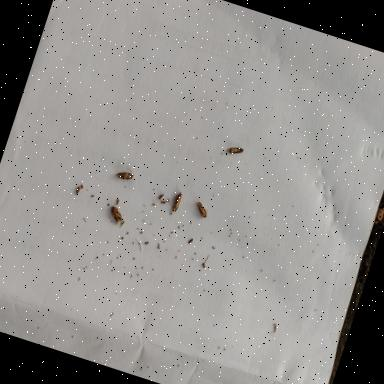pbw: (104, 204, 126, 228), (113, 166, 136, 187), (169, 191, 184, 215), (192, 201, 210, 220), (225, 142, 244, 158)
